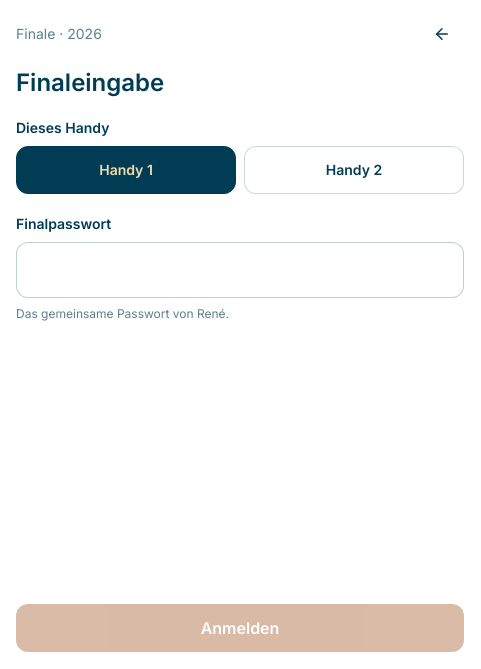
Test: final phone password login › uses an ordinary password field and accepts a password that is not a generated 24-character code
Expected: the button "Anmelden" is disabled, [16,604,464,652]
Type "Synthetic-Password" into the password field labelled "Finalpasswort" at (240, 270), box [16,242,464,298]
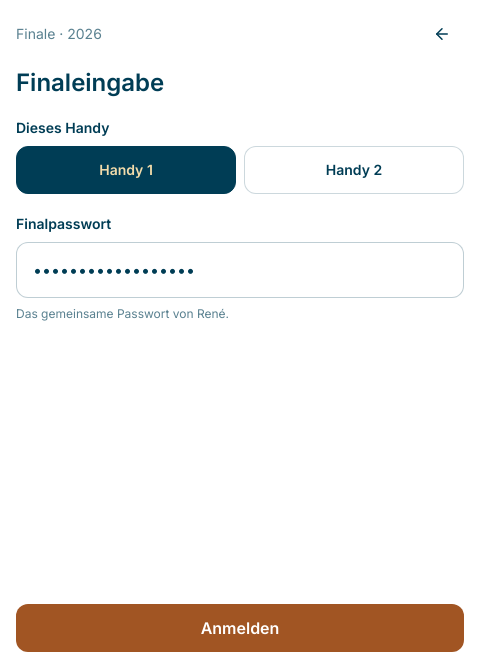
Click the button "Anmelden" at (240, 628), box [16,604,464,652]
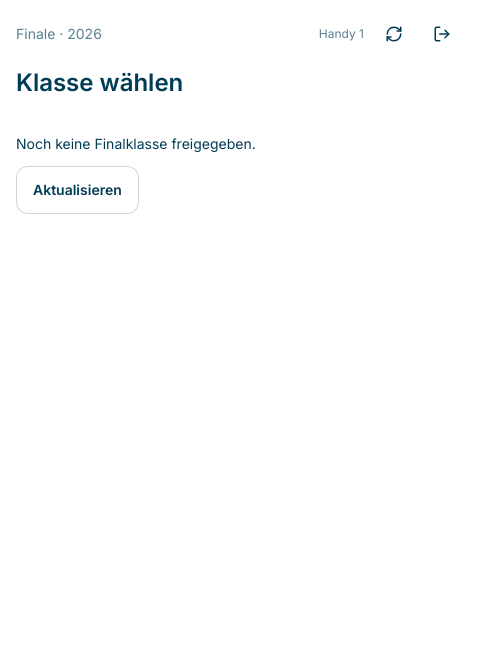
Result: the heading "Klasse wählen" is shown at [16,68,183,97]
Result: the button named "Abmelden" is shown at [420,12,464,56]
